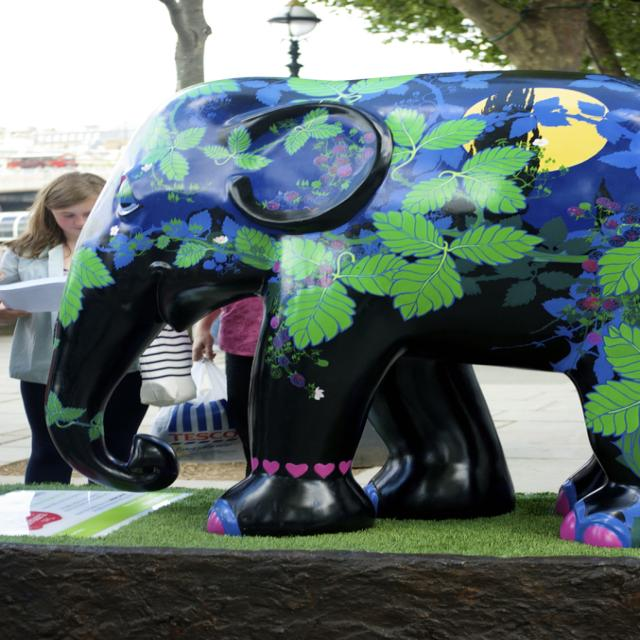Elephant: (24, 43, 592, 531)
